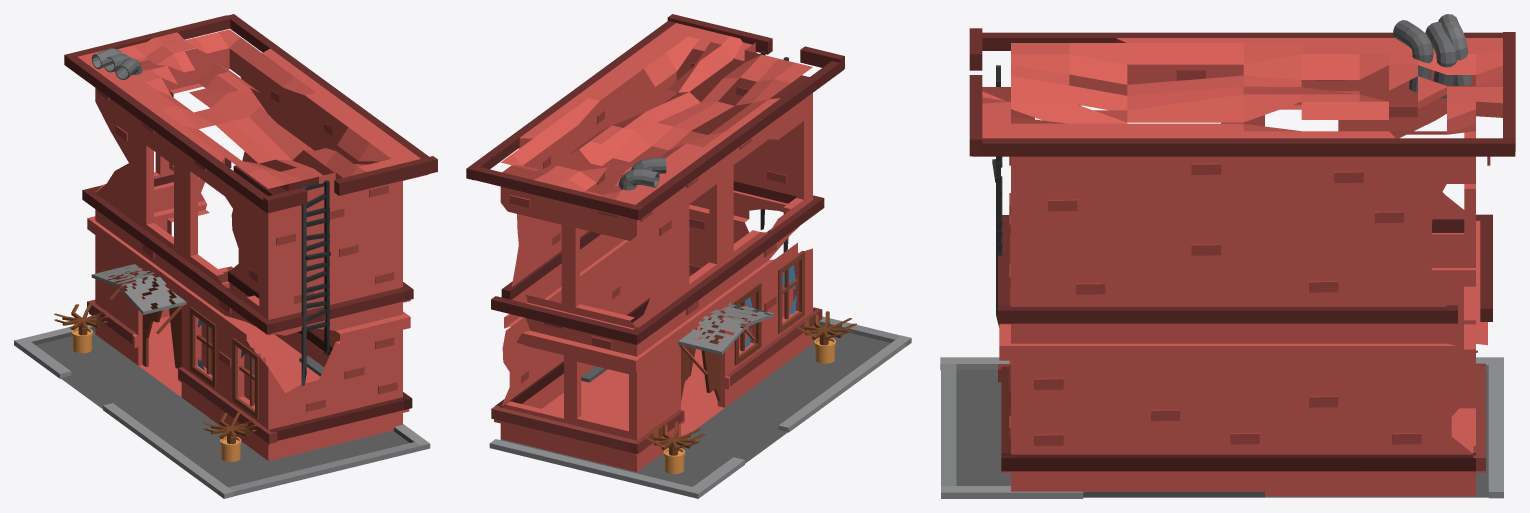
File: house50.fbx
3 views of the same model, side by side, from view 1: azimuth 30°, elevation 25°; view 2: azimuth 150°, elevation 25°; view 3: azimuth 270°, elevation 25° (orthographic). The views are drawn at different scales.
Visible parts, largest first — view 1: Cube.133, Plane.023, Cube.042, Cube.013, Cube.044, Cube.243, Plane.003, Cube.045, Cube.038, Cube.244, Cube.002, Cube.040 (+7 smaller); view 2: Cube.133, Plane.023, Cube.042, Cube.013, Cube.242, Cube.046, Cube.036, Plane.003, Cube.045, Cube.037, Cube.244, Cube.038 (+8 smaller); view 3: Cube.133, Cube.045, Cube.039, Cube.003, Plane.023, Cube.042, Cube.242, Cube.243, Cube.044, Cube.259, Cube.046, Cube.036 (+7 smaller).
Boxes of the visible parts, x1,y1,x2,y2 form: Cube.133: (77,29,428,460); Plane.023: (31,326,414,487); Cube.042: (64,55,267,212); Cube.013: (85,191,275,334); Cube.044: (263,156,437,213); Cube.243: (218,442,428,498); Plane.003: (91,264,186,314); Cube.045: (228,14,428,158); Cube.038: (87,300,277,444); Cube.244: (103,403,233,498); Cube.002: (267,288,410,332); Cube.040: (269,395,408,440); Cube.133: (494,23,819,471); Plane.023: (500,326,890,486); Cube.042: (630,61,843,220); Cube.013: (634,197,824,342); Cube.242: (489,439,744,498); Cube.046: (473,166,642,219); Cube.036: (491,296,639,344); Plane.003: (678,303,774,354); Cube.045: (466,21,675,180); Cube.037: (491,405,637,451); Cube.244: (778,335,911,432); Cube.038: (629,307,822,454); Cube.133: (982,38,1502,496); Cube.045: (972,138,1515,156); Cube.039: (1001,453,1475,471); Cube.003: (998,305,1457,323); Plane.023: (956,365,1488,497); Cube.042: (982,32,1502,50); Cube.242: (1476,357,1503,498); Cube.243: (941,364,956,485); Cube.044: (969,28,982,156); Cube.259: (941,486,1083,498); Cube.046: (1503,32,1515,151); Cube.036: (1480,214,1492,321).
Bounding box in the file's own units: 334 × 417 × 552.
